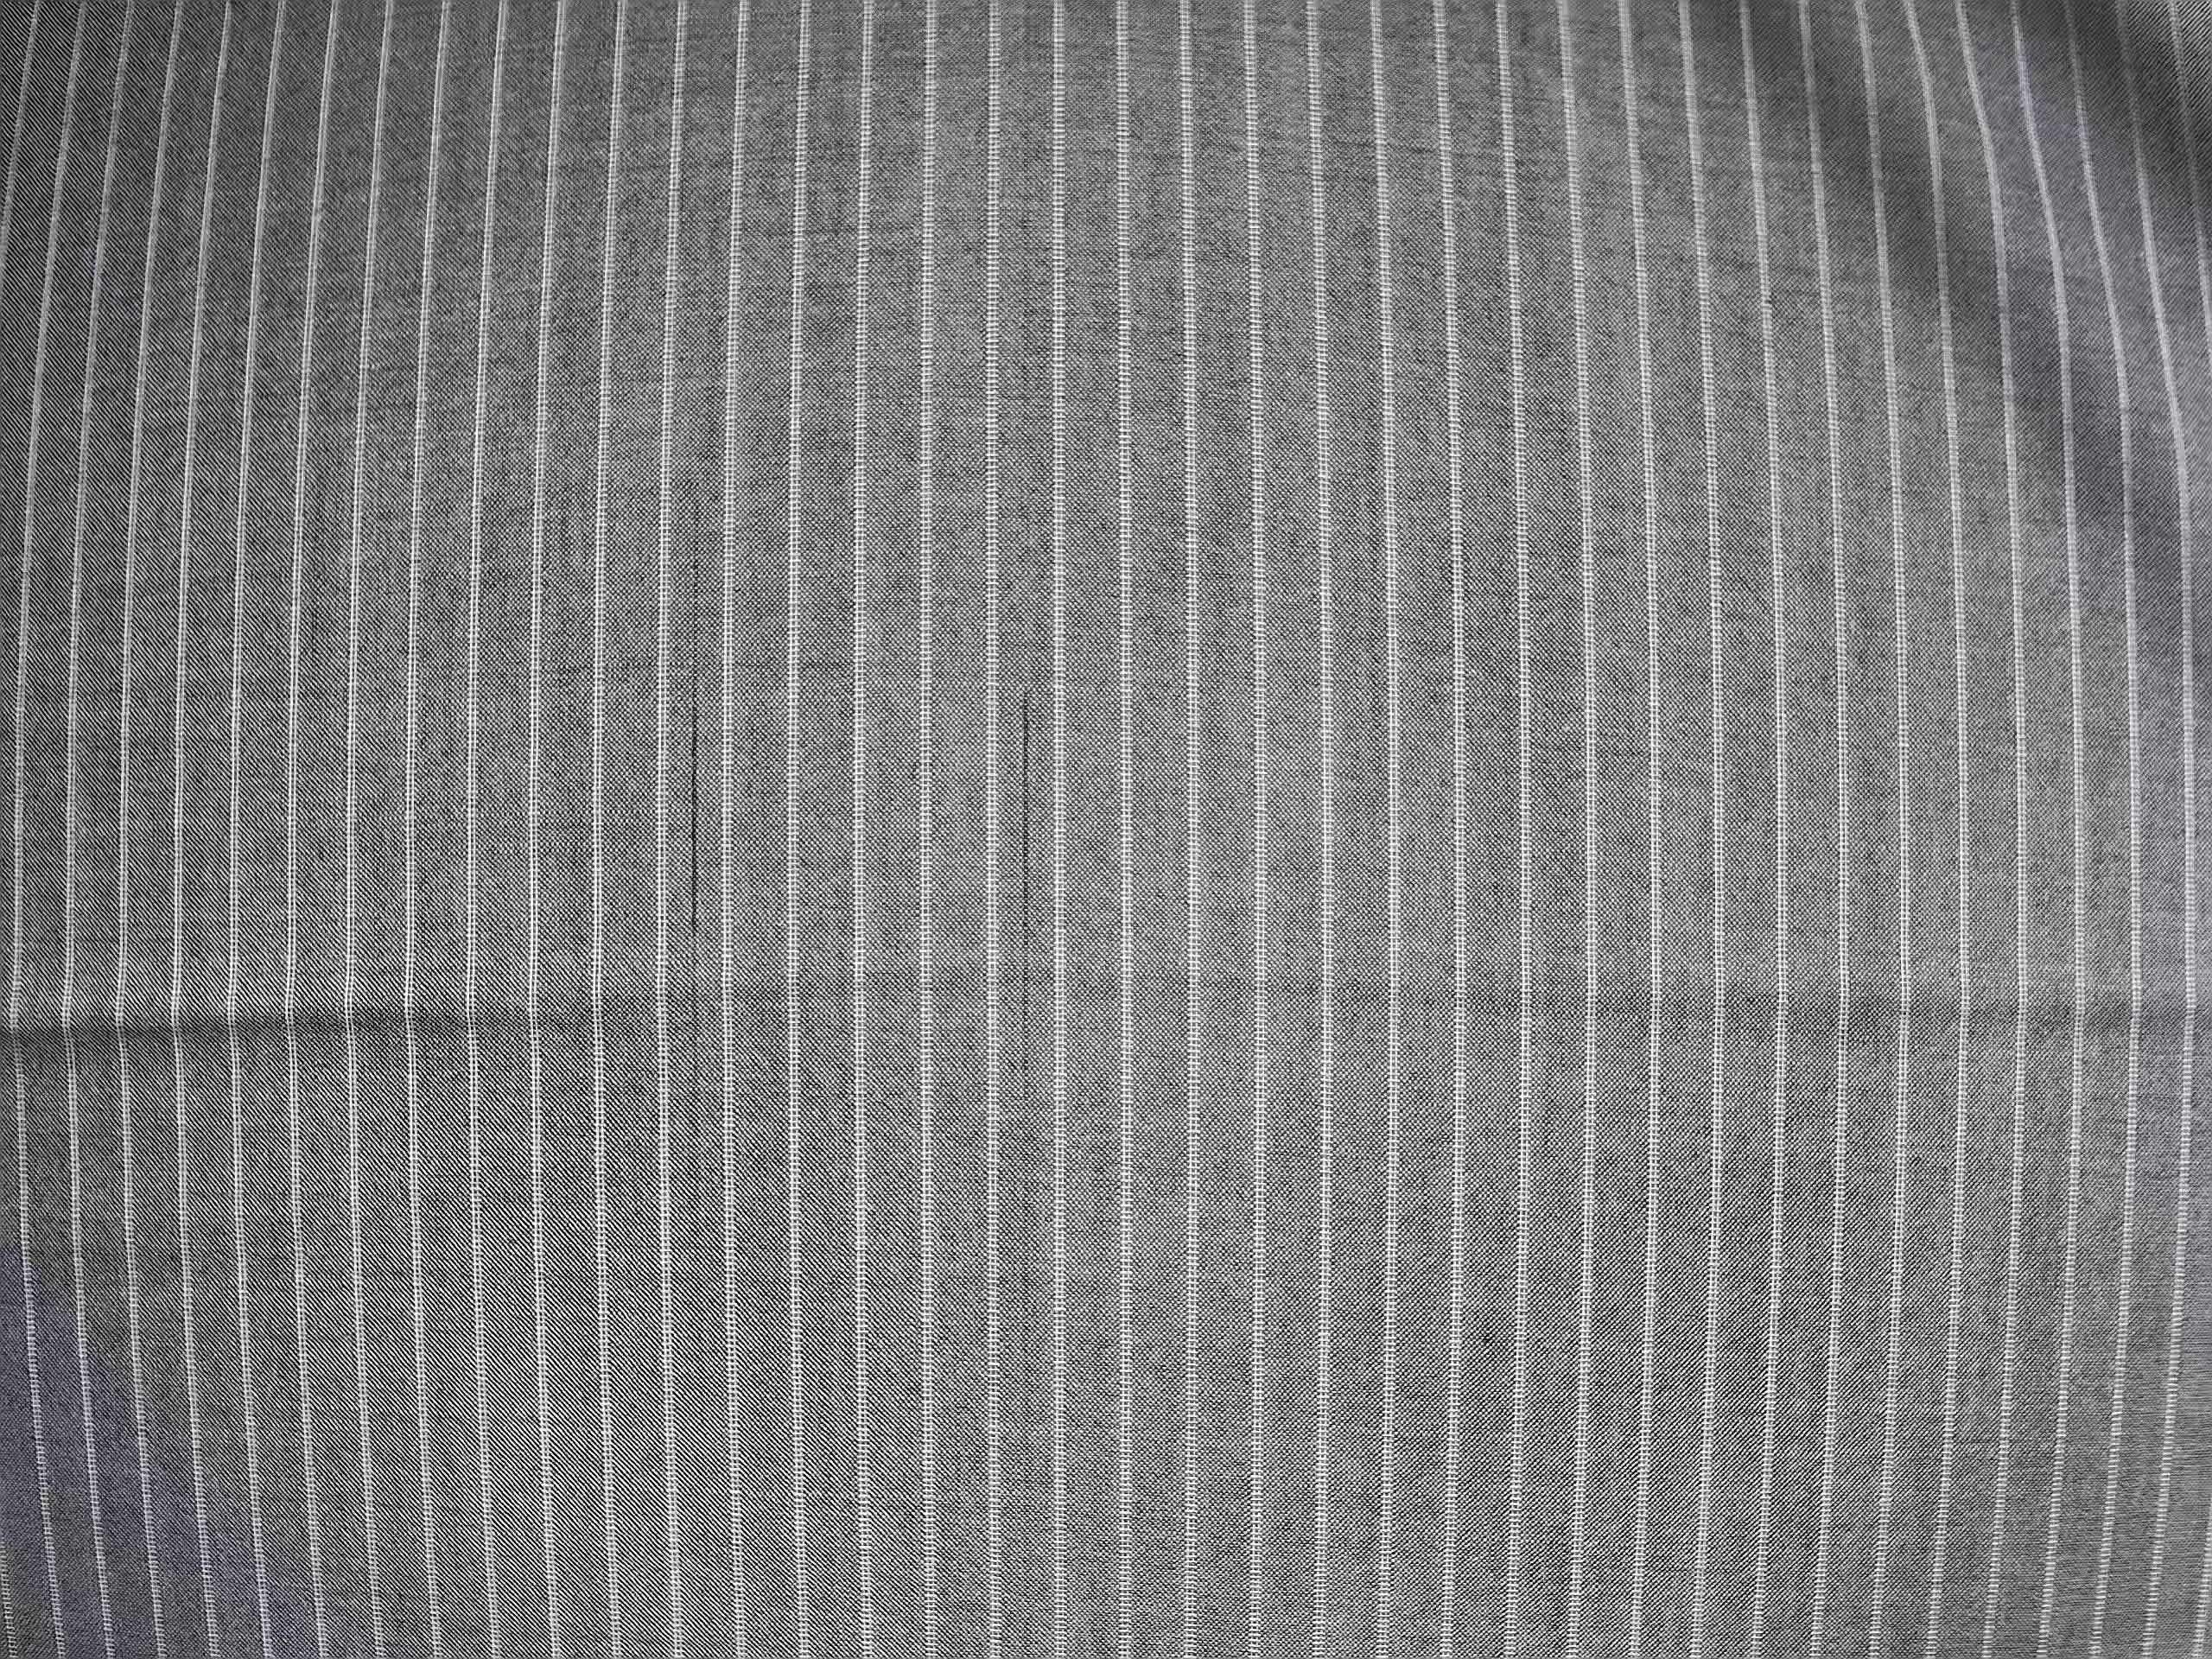hanging-warp: (667, 495, 719, 1108), (1005, 671, 1052, 1100)
